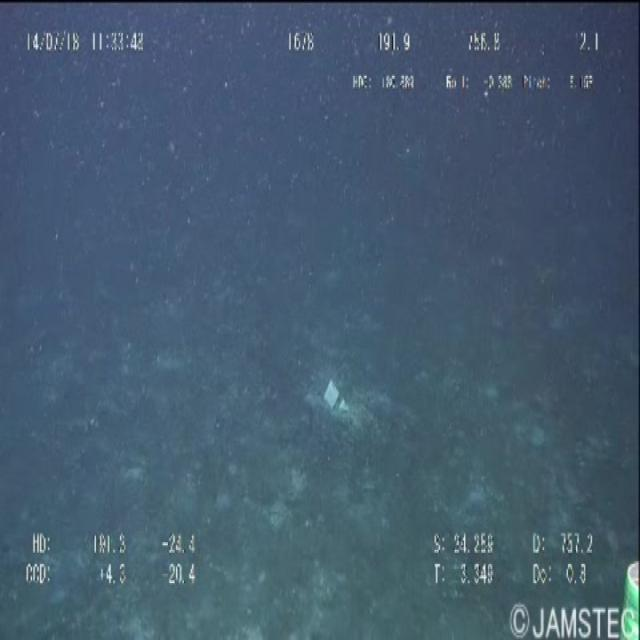Glass: (316, 374, 358, 430)
